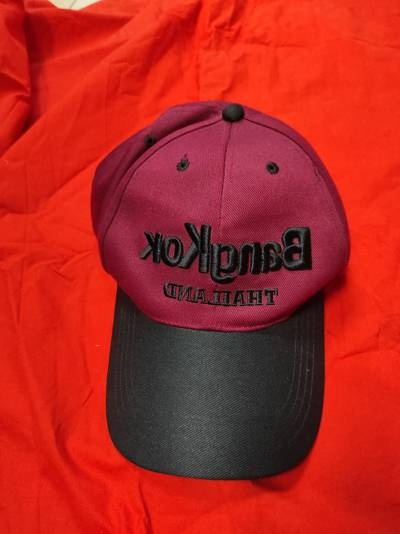Hat: (55, 73, 389, 493)
